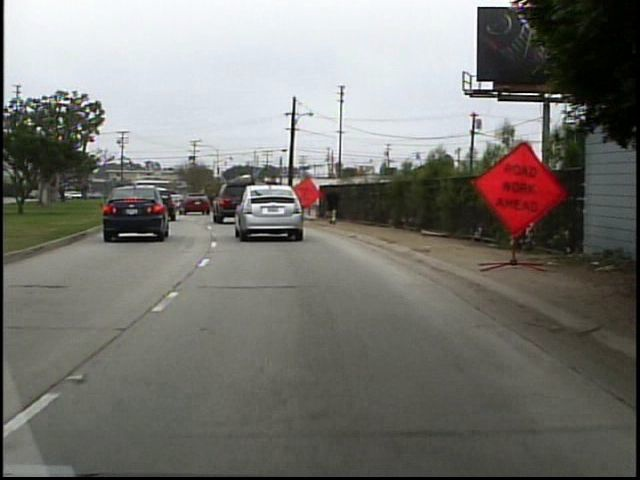person: (321, 182, 342, 227)
